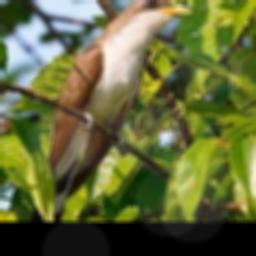Cuckoo: (38, 0, 190, 221)
